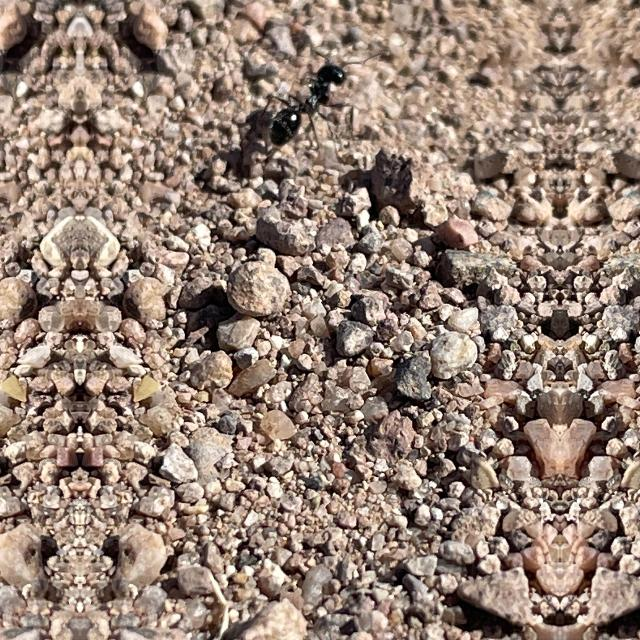Messor: (268, 46, 348, 150)
